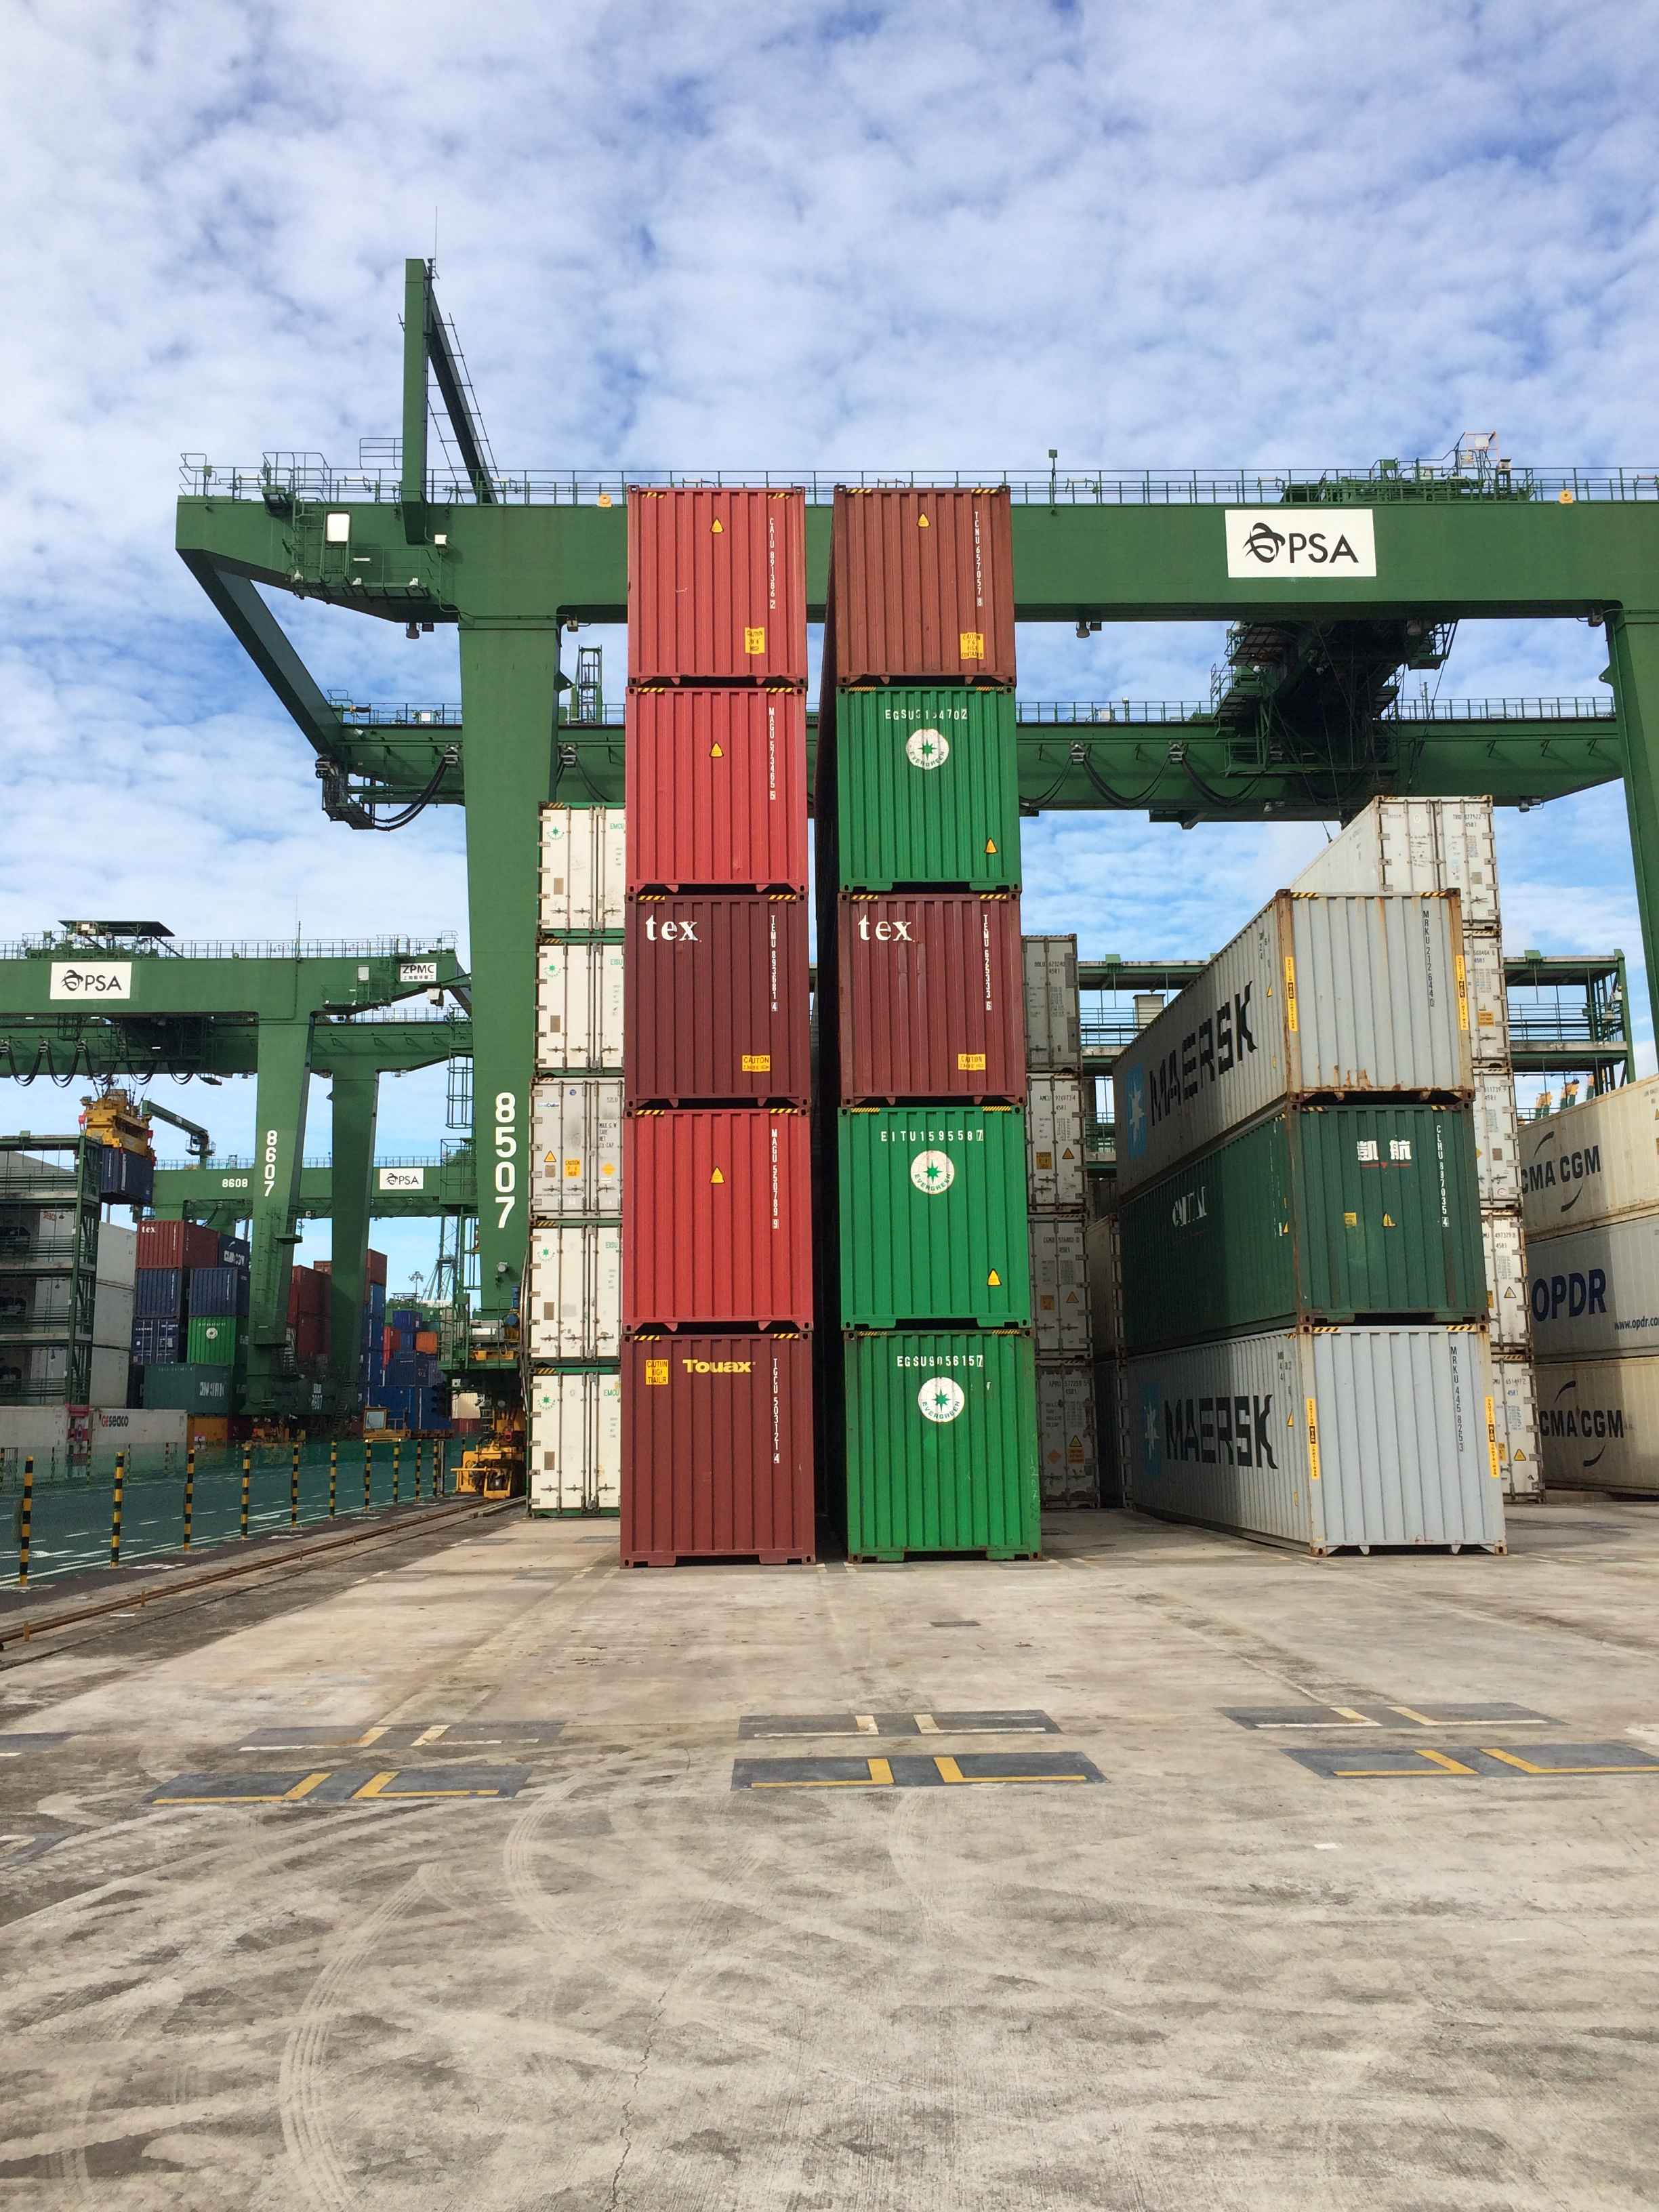container_no_door: (1309, 1310, 1525, 1564), (624, 1348, 828, 1564), (833, 1109, 1037, 1325), (836, 1338, 1040, 1554), (1286, 1099, 1490, 1315), (613, 1109, 817, 1324), (1277, 892, 1469, 1094), (629, 484, 810, 676), (835, 697, 1016, 888), (833, 899, 1014, 1090), (626, 690, 805, 883), (829, 491, 1009, 685), (624, 895, 803, 1087)
